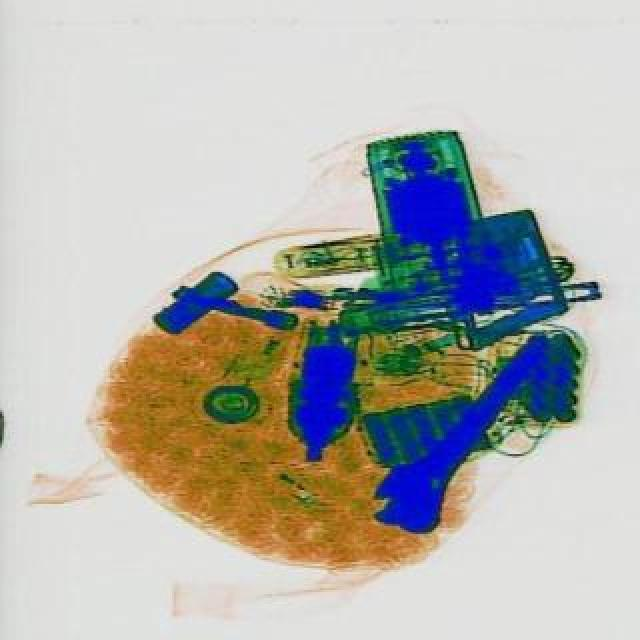scissors: (356, 314, 572, 546)
